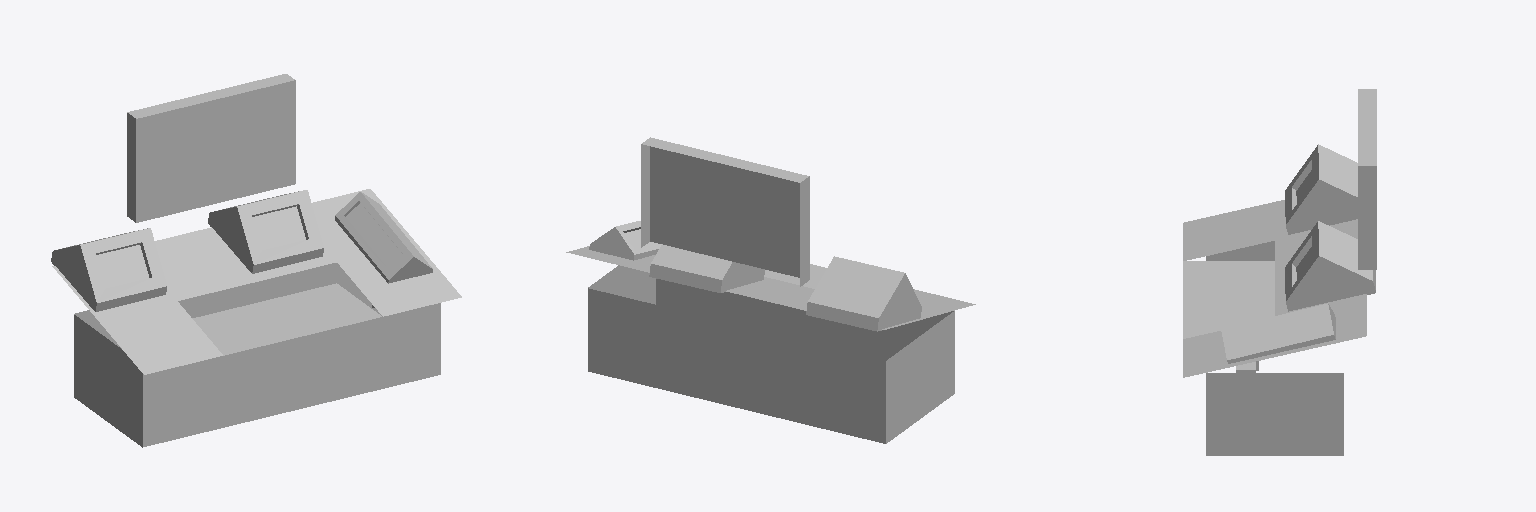
Rendered from library_computer-01-body.obj.
The picture shows the model from 3 angles: view 1: azimuth 30°, elevation 25°; view 2: azimuth 150°, elevation 25°; view 3: azimuth 270°, elevation 25°; orthographic projection.
Visible parts, largest first — view 1: Cube.002_Cube.003, Cube_Cube.004, Plane, cryo_chamber-08.002_cryo_chamber-08.010, cryo_chamber-08.001_cryo_chamber-08.004, Plane.001, Plane.002, cryo_chamber-08.003, Plane.003; view 2: Cube.002_Cube.003, Cube_Cube.004, cryo_chamber-08.001_cryo_chamber-08.004, cryo_chamber-08.002_cryo_chamber-08.010, cryo_chamber-08.003, Plane, Plane.001, Plane.002; view 3: Cube.002_Cube.003, Plane, cryo_chamber-08.002_cryo_chamber-08.010, cryo_chamber-08.001_cryo_chamber-08.004, cryo_chamber-08.003, Plane.001, Cube_Cube.004, Plane.002, Plane.003, cryo_chamber-08.005_cryo_chamber-08.006.
Boxes of the visible parts, box(x1,y1,x2,y2) form: Cube.002_Cube.003: box(74, 263, 440, 447); Cube_Cube.004: box(127, 74, 295, 222); Plane: box(155, 227, 381, 355); cryo_chamber-08.002_cryo_chamber-08.010: box(208, 190, 323, 273); cryo_chamber-08.001_cryo_chamber-08.004: box(51, 228, 166, 311); Plane.001: box(52, 266, 222, 374); Plane.002: box(312, 189, 461, 316); cryo_chamber-08.003: box(335, 192, 432, 283); Plane.003: box(216, 300, 318, 335); Cube.002_Cube.003: box(588, 265, 954, 443); Cube_Cube.004: box(641, 137, 809, 286); cryo_chamber-08.001_cryo_chamber-08.004: box(806, 256, 921, 331); cryo_chamber-08.002_cryo_chamber-08.010: box(649, 244, 764, 292); cryo_chamber-08.003: box(589, 221, 661, 260); Plane: box(647, 264, 826, 310); Plane.001: box(806, 289, 975, 329); Plane.002: box(566, 246, 655, 271); Cube.002_Cube.003: box(1206, 241, 1343, 455); Plane: box(1183, 222, 1366, 338); cryo_chamber-08.002_cryo_chamber-08.010: box(1285, 221, 1375, 311); cryo_chamber-08.001_cryo_chamber-08.004: box(1285, 144, 1357, 234); cryo_chamber-08.003: box(1221, 303, 1335, 363); Plane.001: box(1183, 200, 1357, 260); Cube_Cube.004: box(1358, 89, 1376, 269); Plane.002: box(1183, 298, 1366, 377); Plane.003: box(1203, 268, 1248, 306); cryo_chamber-08.005_cryo_chamber-08.006: box(1236, 361, 1258, 399).
Bounding box in the file's own units: 4.02 × 3.07 × 2.1.